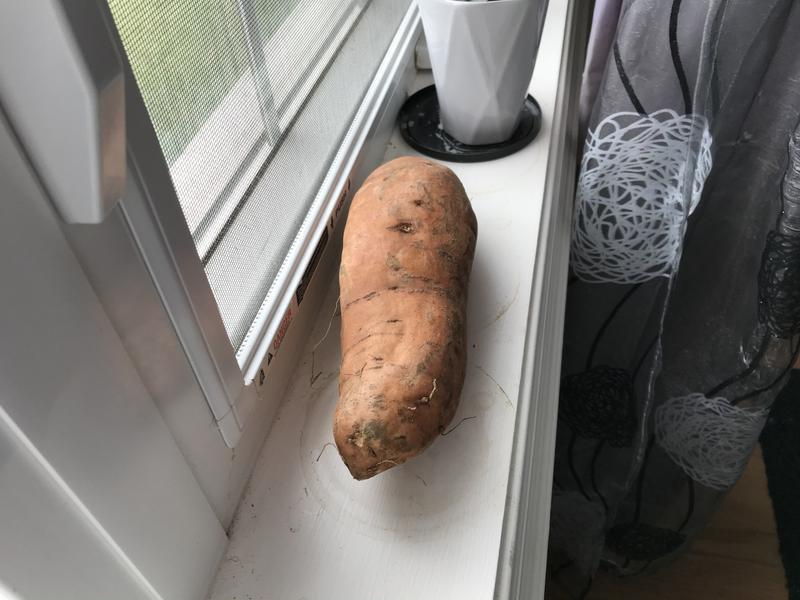sweet_potato: (321, 148, 487, 498)
